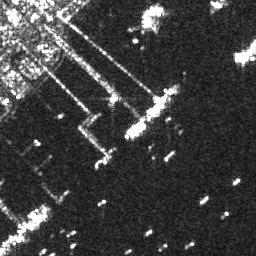ship: (125, 122, 147, 138), (87, 112, 101, 127), (163, 150, 176, 162), (198, 194, 209, 206), (66, 228, 77, 238), (97, 198, 107, 207), (232, 177, 241, 186), (145, 227, 153, 237), (186, 240, 194, 249), (124, 247, 132, 255), (70, 242, 77, 250)
